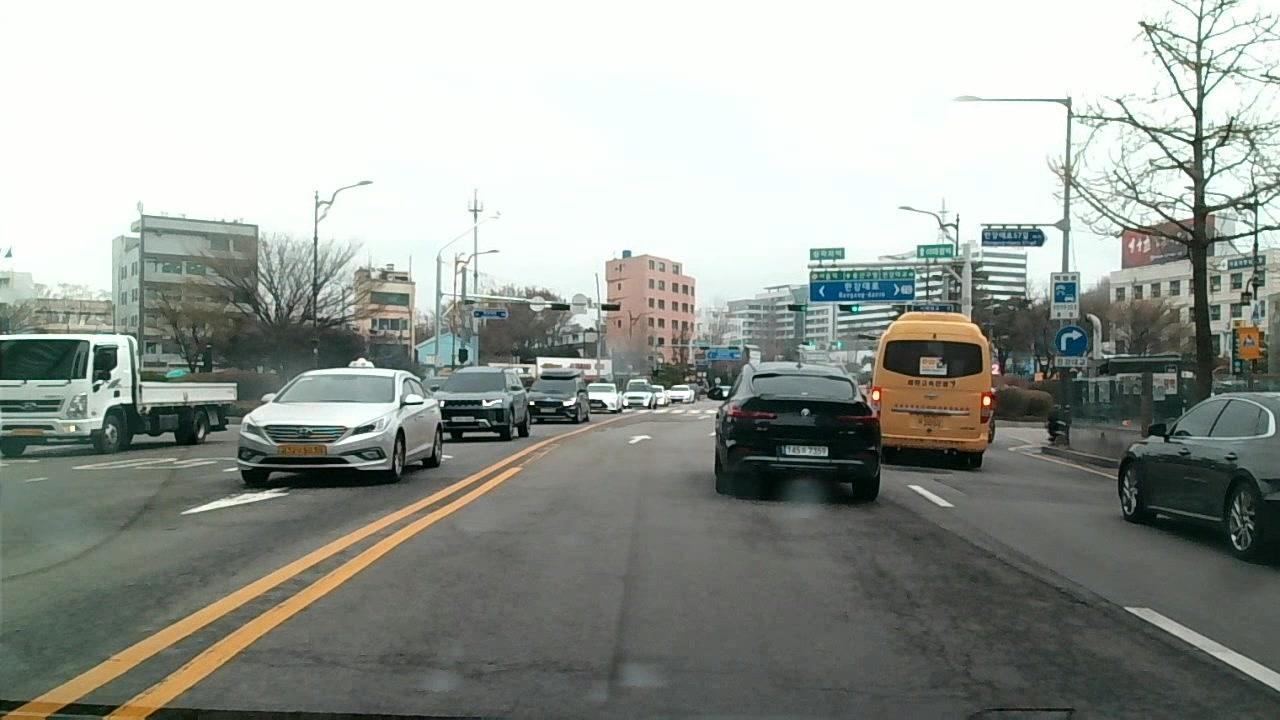banner: (850, 523, 1211, 718), (214, 645, 606, 680)
